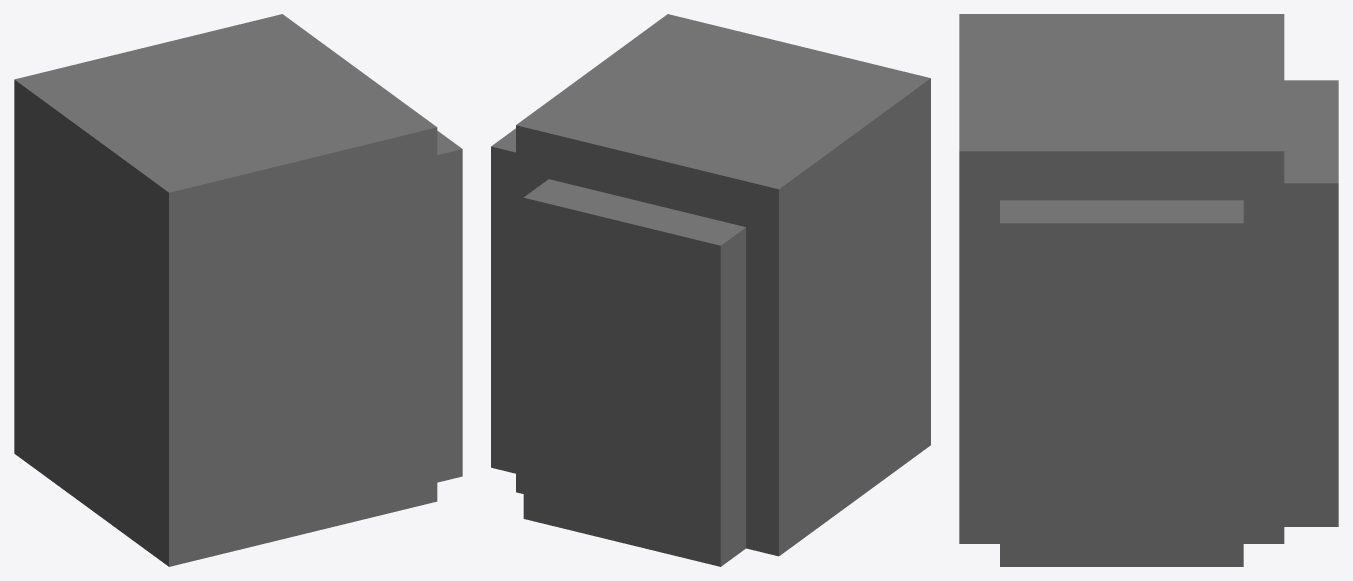
The model's file is Mushburg_wall_4.glb.
3 renders of one model, left to right at view 1: azimuth 30°, elevation 25°; view 2: azimuth 150°, elevation 25°; view 3: azimuth 270°, elevation 25°, orthographic. The views are drawn at different scales.
Parts seen in each view (by area): view 1: wall_4; view 2: wall_4; view 3: wall_4.
Boxes of the visible parts, left/top/right/bottom form: wall_4: left=14, top=14, right=462, bottom=566; wall_4: left=491, top=14, right=930, bottom=566; wall_4: left=959, top=14, right=1338, bottom=566.
Size of the model in its own units: 0.875 by 1 by 0.875.
1 material, 1 textured.
